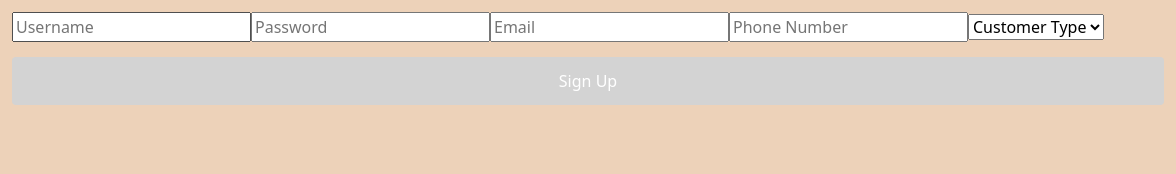
Scenario: displays phone error for invalid phone number
Step 1. Type "12345" into the field with placeholder "Phone Number" → [848, 27], box [729,12,968,42]
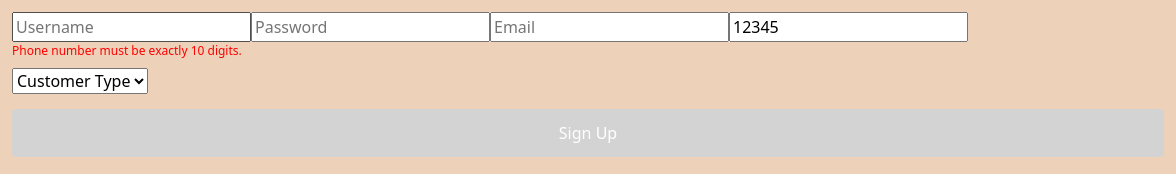
Now the text "Phone number must be exactly 10 digits." is shown, box [12,42,242,59]
Step 2. Replace the text in the field with placeholder "Phone Number" with "1234567890" → [848, 27], box [729,12,968,42]
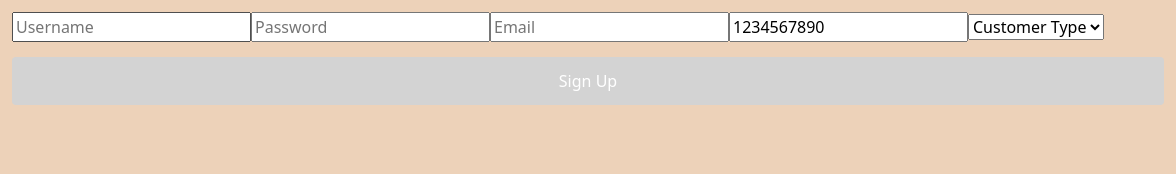
Now the text "Phone number must be exactly 10 digits" is gone
